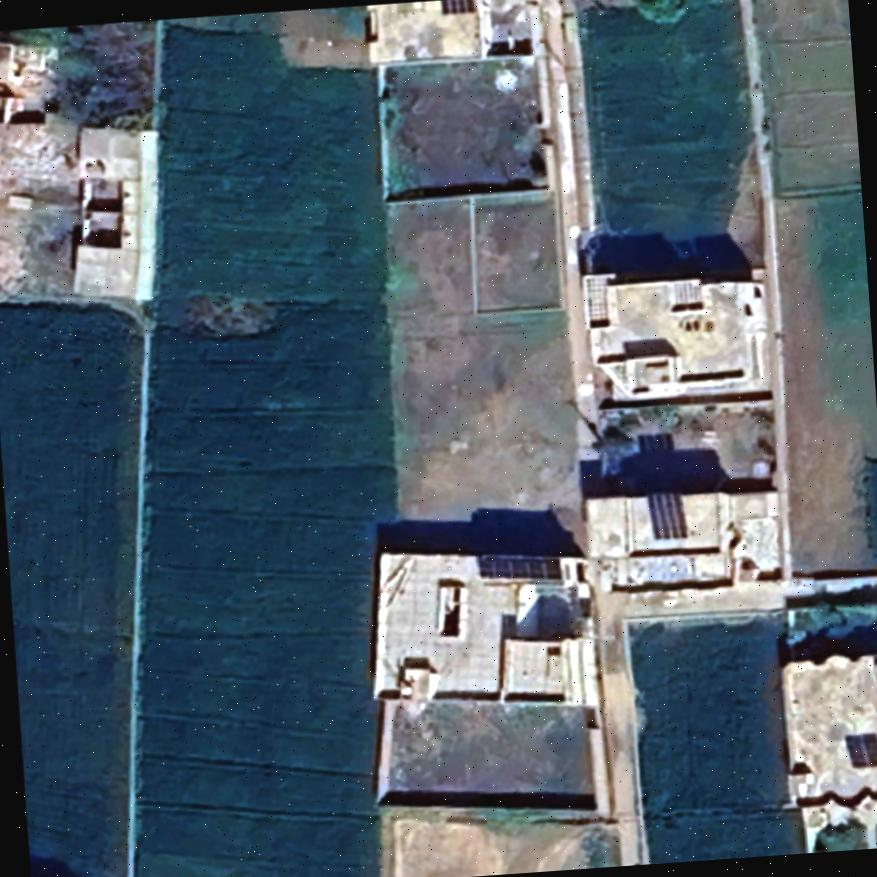Solarpanel: (472, 544, 566, 589), (642, 486, 690, 543), (840, 727, 877, 771), (436, 0, 477, 16)
